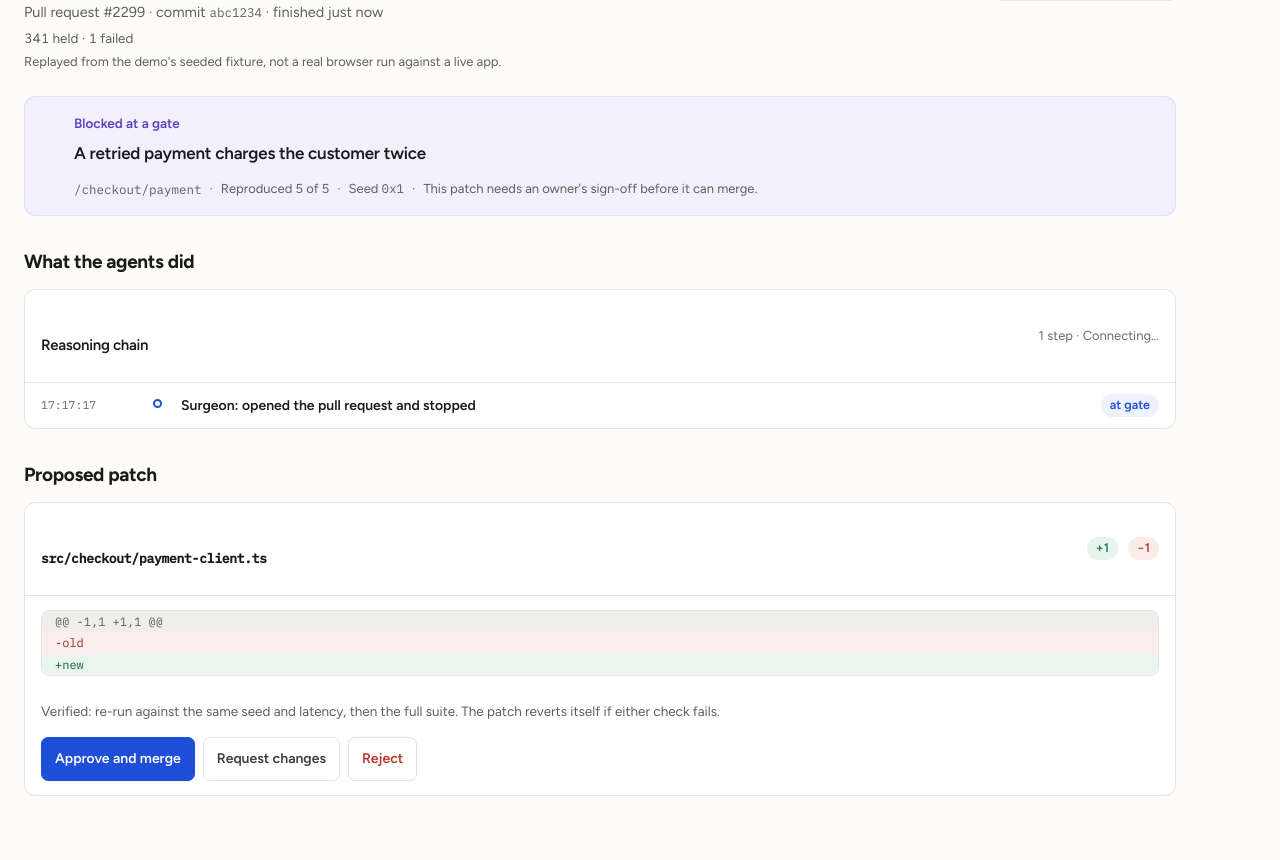
Test: a demo session approving the gated payments patch is told nothing was saved, not given the real success toast (CRITICAL: demo must not claim a merge that never
(page scrolled)
Click the button "Approve and merge" at (118, 759), box [41,737,195,781]
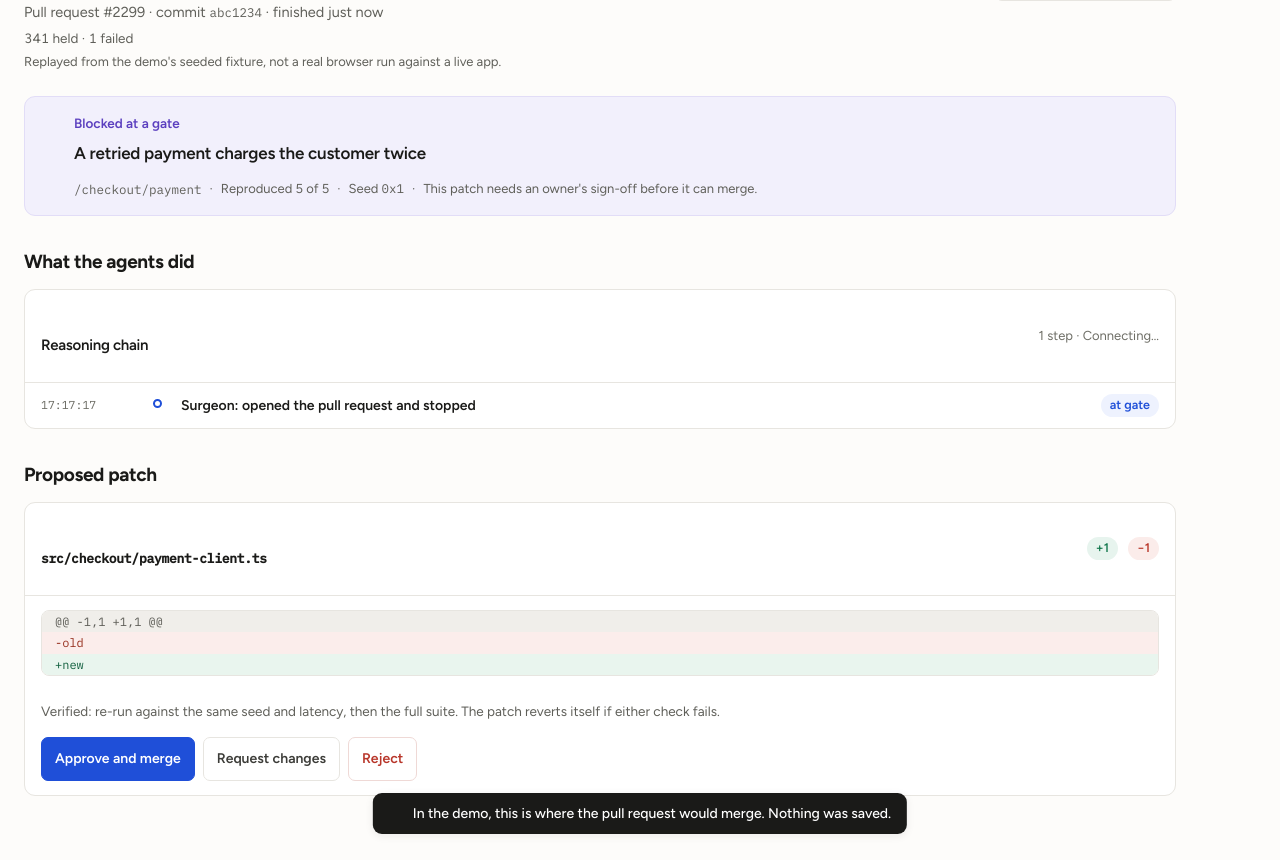
Expected: the text "In the demo, this is where the pull request would merge. Nothing was saved." is shown, [373,793,907,834]
